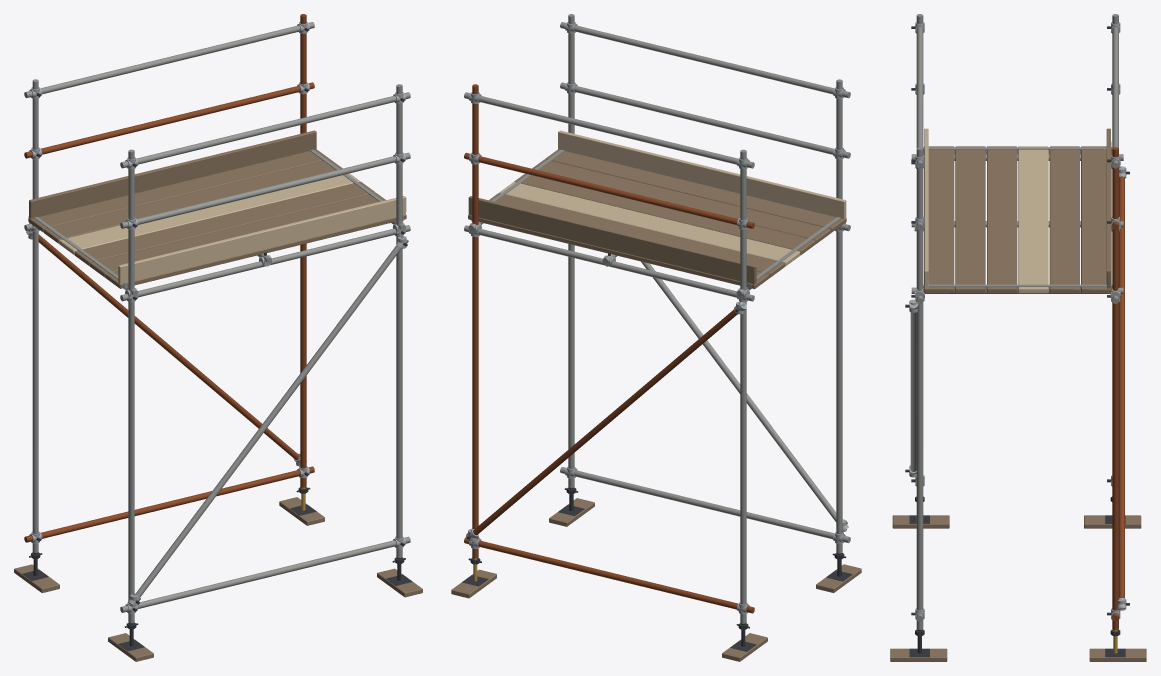
Rendered from deco_scaffold_bay.fbx.
The picture shows the model from 3 angles, left to right: view 1: azimuth 30°, elevation 25°; view 2: azimuth 150°, elevation 25°; view 3: azimuth 270°, elevation 25°; orthographic projection.
Parts seen in each view (by area): view 1: Scaffold_Bay_Deck, Scaffold_Bay_Tubes, Scaffold_Bay_BasePlates, Scaffold_Bay_Clamps; view 2: Scaffold_Bay_Deck, Scaffold_Bay_Tubes, Scaffold_Bay_BasePlates, Scaffold_Bay_Clamps; view 3: Scaffold_Bay_Deck, Scaffold_Bay_Tubes, Scaffold_Bay_BasePlates, Scaffold_Bay_Clamps.
Part boxes in pixels (<box>): Scaffold_Bay_Deck: <box>28,130,406,289</box>; Scaffold_Bay_Tubes: <box>24,14,410,623</box>; Scaffold_Bay_BasePlates: <box>14,487,422,661</box>; Scaffold_Bay_Clamps: <box>26,22,408,613</box>; Scaffold_Bay_Deck: <box>468,130,846,289</box>; Scaffold_Bay_Tubes: <box>464,14,850,623</box>; Scaffold_Bay_BasePlates: <box>451,487,861,661</box>; Scaffold_Bay_Clamps: <box>466,22,848,614</box>; Scaffold_Bay_Deck: <box>923,128,1112,293</box>; Scaffold_Bay_Tubes: <box>910,14,1124,629</box>; Scaffold_Bay_BasePlates: <box>890,496,1146,661</box>; Scaffold_Bay_Clamps: <box>905,22,1129,619</box>.
Bounding box in the file's own units: 249 × 413 × 189.
